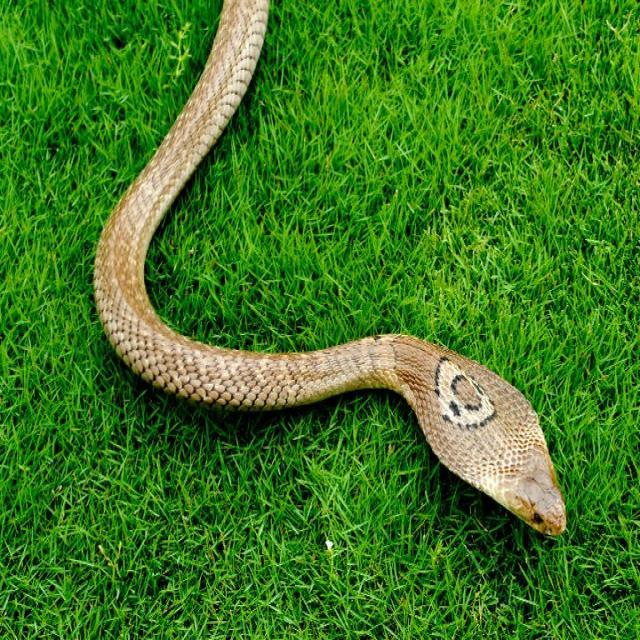Snake: (92, 0, 567, 538)
